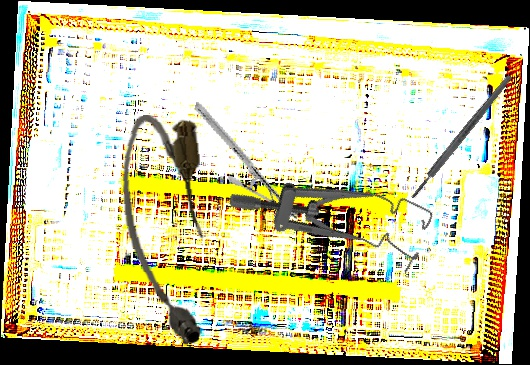Cannula: (115, 110, 216, 351)
Needle Holder: (170, 101, 323, 221)
Scalpel Handle: (408, 73, 515, 201)
Speculum: (225, 130, 440, 291)
